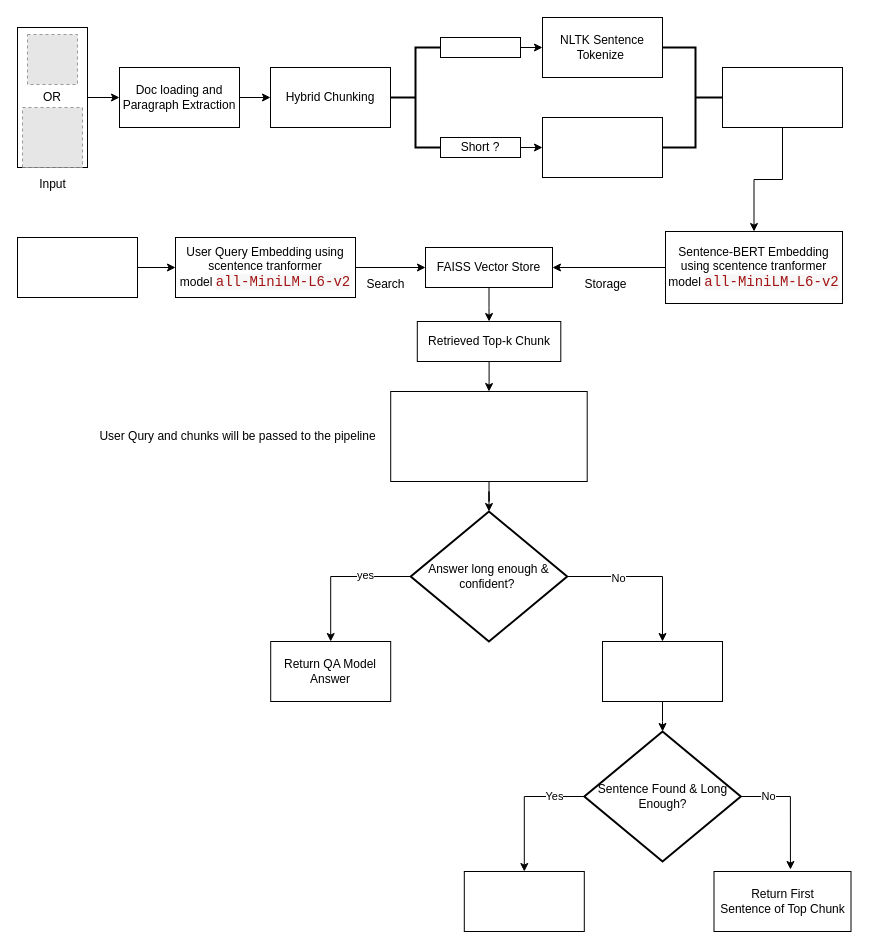
Image size: 869x949. Some labels were removed from this diagram. Grey dashed boxes stand in for pictures. Here are the shapes that lost their labels. From the top down, the centre of each, then its label:
pixel 480 47: Long ?
pixel 782 97: List of Chunks
pixel 602 147: Merge to min word count
pixel 77 267: User Query
pixel 488 436: BERT QA Reader QA Pipeline using model bert-large-uncased (fine tuned on squad )
pixel 662 671: Global Keyword Search on Top-k
pixel 523 901: Return Matched Sentence
